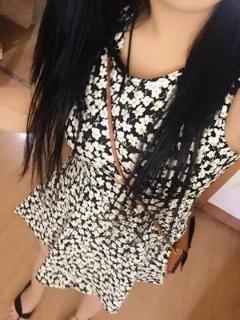vest: (14, 0, 239, 314)
